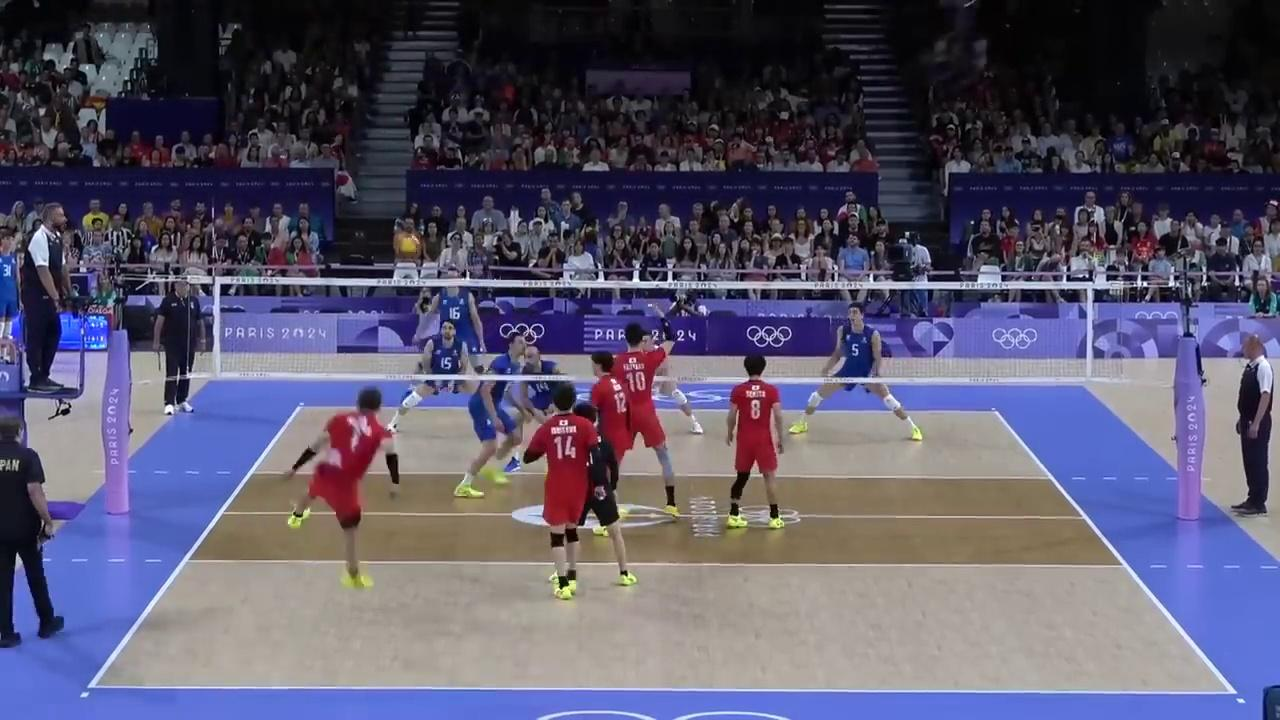ball: (395, 234, 421, 254)
